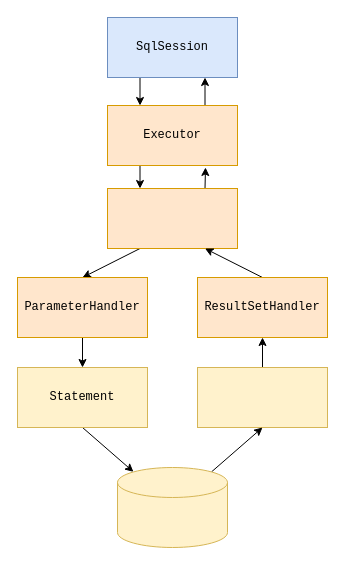
Some shapes in this 345 by 565 pixel diagram are drawn without their labels. Here are the shapes that lost their labels. From the top down, the box of each, then its label:
(106, 188, 238, 248): StatementHandler
(196, 366, 328, 428): ResultSet
(116, 466, 228, 548): 数据库
